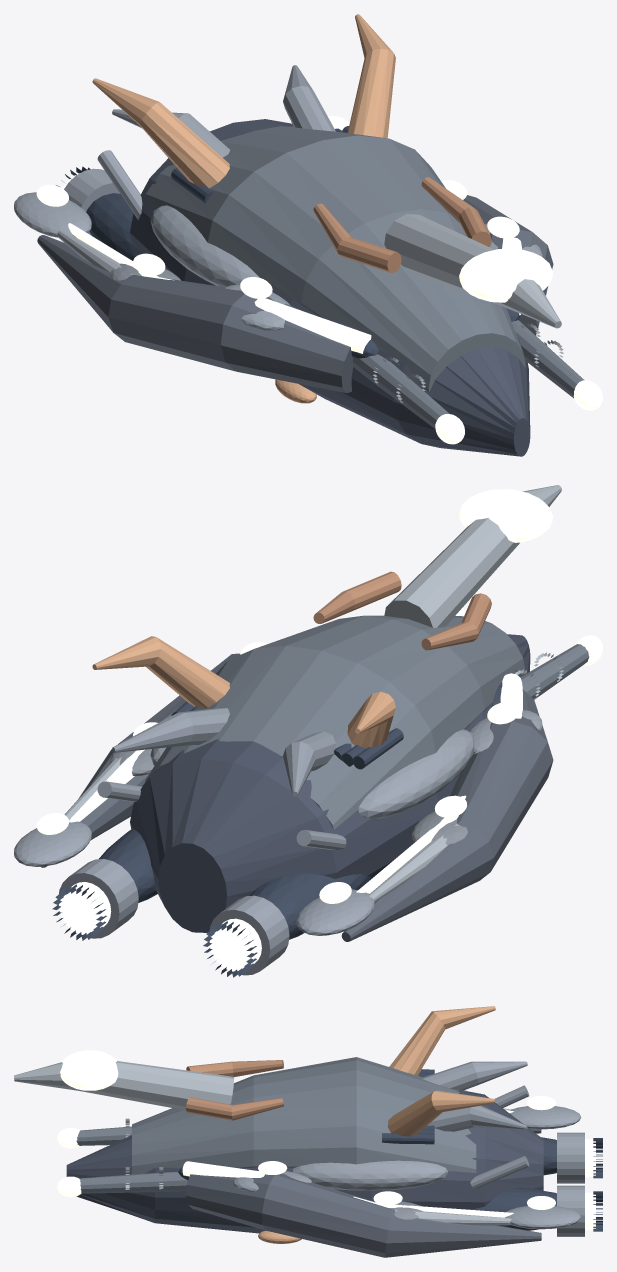
Rendered from npc_recruitStreuner.glb.
The picture shows the model from 3 angles, top to bottom: view 1: azimuth 30°, elevation 25°; view 2: azimuth 150°, elevation 25°; view 3: azimuth 270°, elevation 25°; orthographic projection. The views are drawn at different scales.
Visible parts, largest first — view 1: upper_armor_scar, armored_scythe_-1, keel_pressure_hull, scout_extended_radar, scout_raised_sweep_-1, heavy_shield_pad_-1, scout_raised_sweep_1, scout_radar_blue, energy_etched_rail_-1, long_plasma_cannon_-1, engine_armor_-1, scythe_plate_-1_2 (+13 smaller); view 2: upper_armor_scar, keel_pressure_hull, armored_scythe_-1, scout_extended_radar, heavy_shield_pad_-1, scout_raised_sweep_1, scout_radar_blue, predator_dorsal_fang_1, exhaust_coil_-1, exhaust_coil_1, engine_armor_-1, scythe_plate_1_2 (+20 smaller); view 3: upper_armor_scar, armored_scythe_1, keel_pressure_hull, scout_extended_radar, heavy_shield_pad_1, scout_raised_sweep_-1, scout_raised_sweep_1, scout_radar_blue, long_plasma_cannon_1, predator_dorsal_fang_-1, energy_etched_rail_1, predator_dorsal_fang_1 (+21 smaller).
Boxes of the visible parts, box(x1,y1,x2,y2) form: upper_armor_scar: box(144, 126, 525, 391); armored_scythe_-1: box(37, 235, 353, 393); keel_pressure_hull: box(130, 119, 530, 456); scout_extended_radar: box(384, 214, 561, 328); scout_raised_sweep_-1: box(92, 78, 229, 188); heavy_shield_pad_-1: box(150, 205, 258, 287); scout_raised_sweep_1: box(347, 14, 395, 138); scout_radar_blue: box(459, 248, 552, 302); energy_etched_rail_-1: box(68, 223, 371, 353); long_plasma_cannon_-1: box(352, 354, 449, 428); engine_armor_-1: box(86, 193, 141, 260); scythe_plate_-1_2: box(14, 192, 91, 237); upper_armor_scar: box(144, 615, 525, 829); keel_pressure_hull: box(130, 634, 530, 932); armored_scythe_-1: box(341, 690, 553, 941); scout_extended_radar: box(384, 485, 561, 627); heavy_shield_pad_-1: box(358, 729, 474, 818); scout_raised_sweep_1: box(92, 636, 229, 708); scout_radar_blue: box(459, 489, 552, 542); predator_dorsal_fang_1: box(112, 708, 229, 752); exhaust_coil_-1: box(209, 895, 289, 975); exhaust_coil_1: box(58, 859, 138, 938); engine_armor_-1: box(249, 873, 370, 939); scythe_plate_1_2: box(14, 821, 91, 866); upper_armor_scar: box(132, 1057, 476, 1174); armored_scythe_1: box(185, 1173, 541, 1257); keel_pressure_hull: box(66, 1091, 543, 1233); scout_extended_radar: box(14, 1061, 234, 1110); heavy_shield_pad_1: box(291, 1160, 447, 1190); scout_raised_sweep_-1: box(389, 1006, 495, 1075); scout_raised_sweep_1: box(387, 1090, 495, 1136); scout_radar_blue: box(60, 1050, 118, 1090); long_plasma_cannon_1: box(79, 1172, 187, 1193); predator_dorsal_fang_-1: box(422, 1061, 527, 1090); energy_etched_rail_1: box(182, 1161, 513, 1217); predator_dorsal_fang_1: box(429, 1105, 527, 1131).
Bounding box in the file's own units: 1.84 × 1.1 × 3.36.
